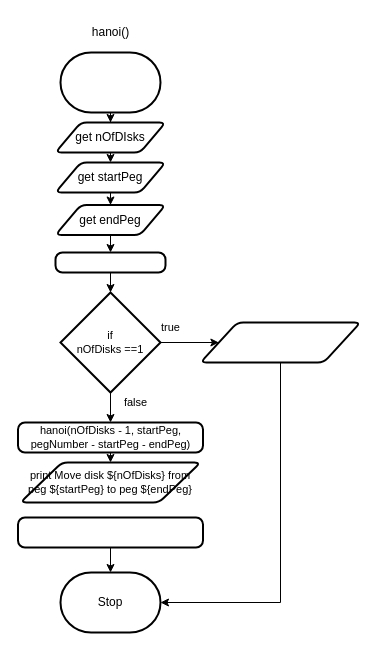
Some shapes in this 379 by 650 pixel diagram are drawn without their labels. The shapes that lost their labels are listed below. From the top down, each one's centre as x and y in pixels, then its label:
At pixel 110 82: "Start".
At pixel 110 262: "const pegNumber = 6".
At pixel 280 342: "print Move disk 1 from peg ${startPeg} to peg ${endPeg}".
At pixel 110 532: "hanoi(nOfDisks - 1, pegNumber - startPeg - endPeg, endPeg)".
